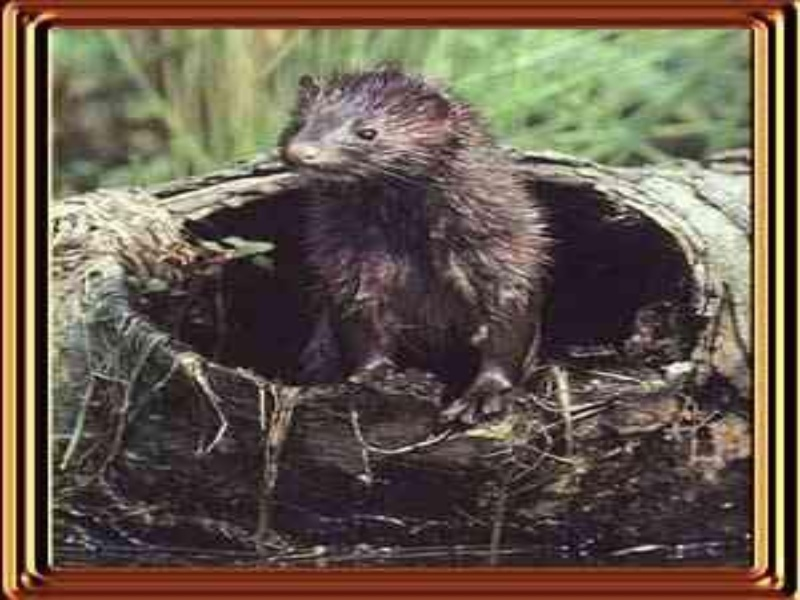minkish: (280, 69, 551, 422)
